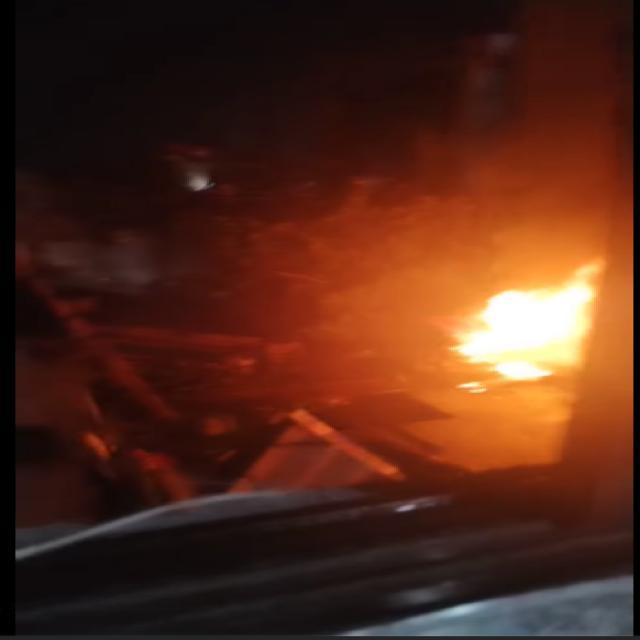Fire: (452, 253, 612, 390)
Smoke: (348, 17, 632, 364)
